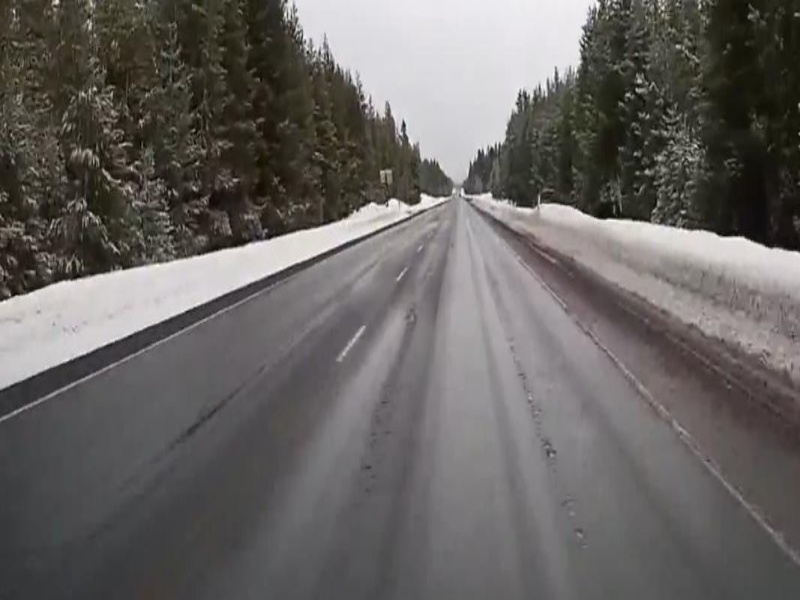pothole: (539, 438, 559, 464), (403, 307, 418, 327)
